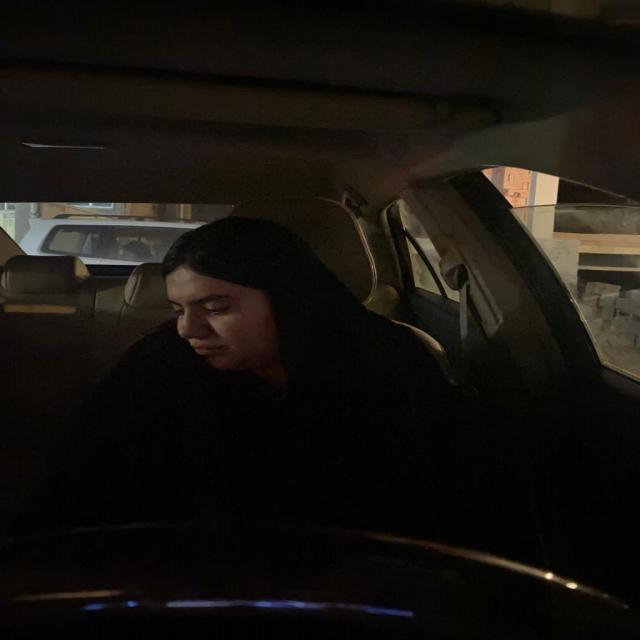LeftRight: (156, 214, 332, 372)
